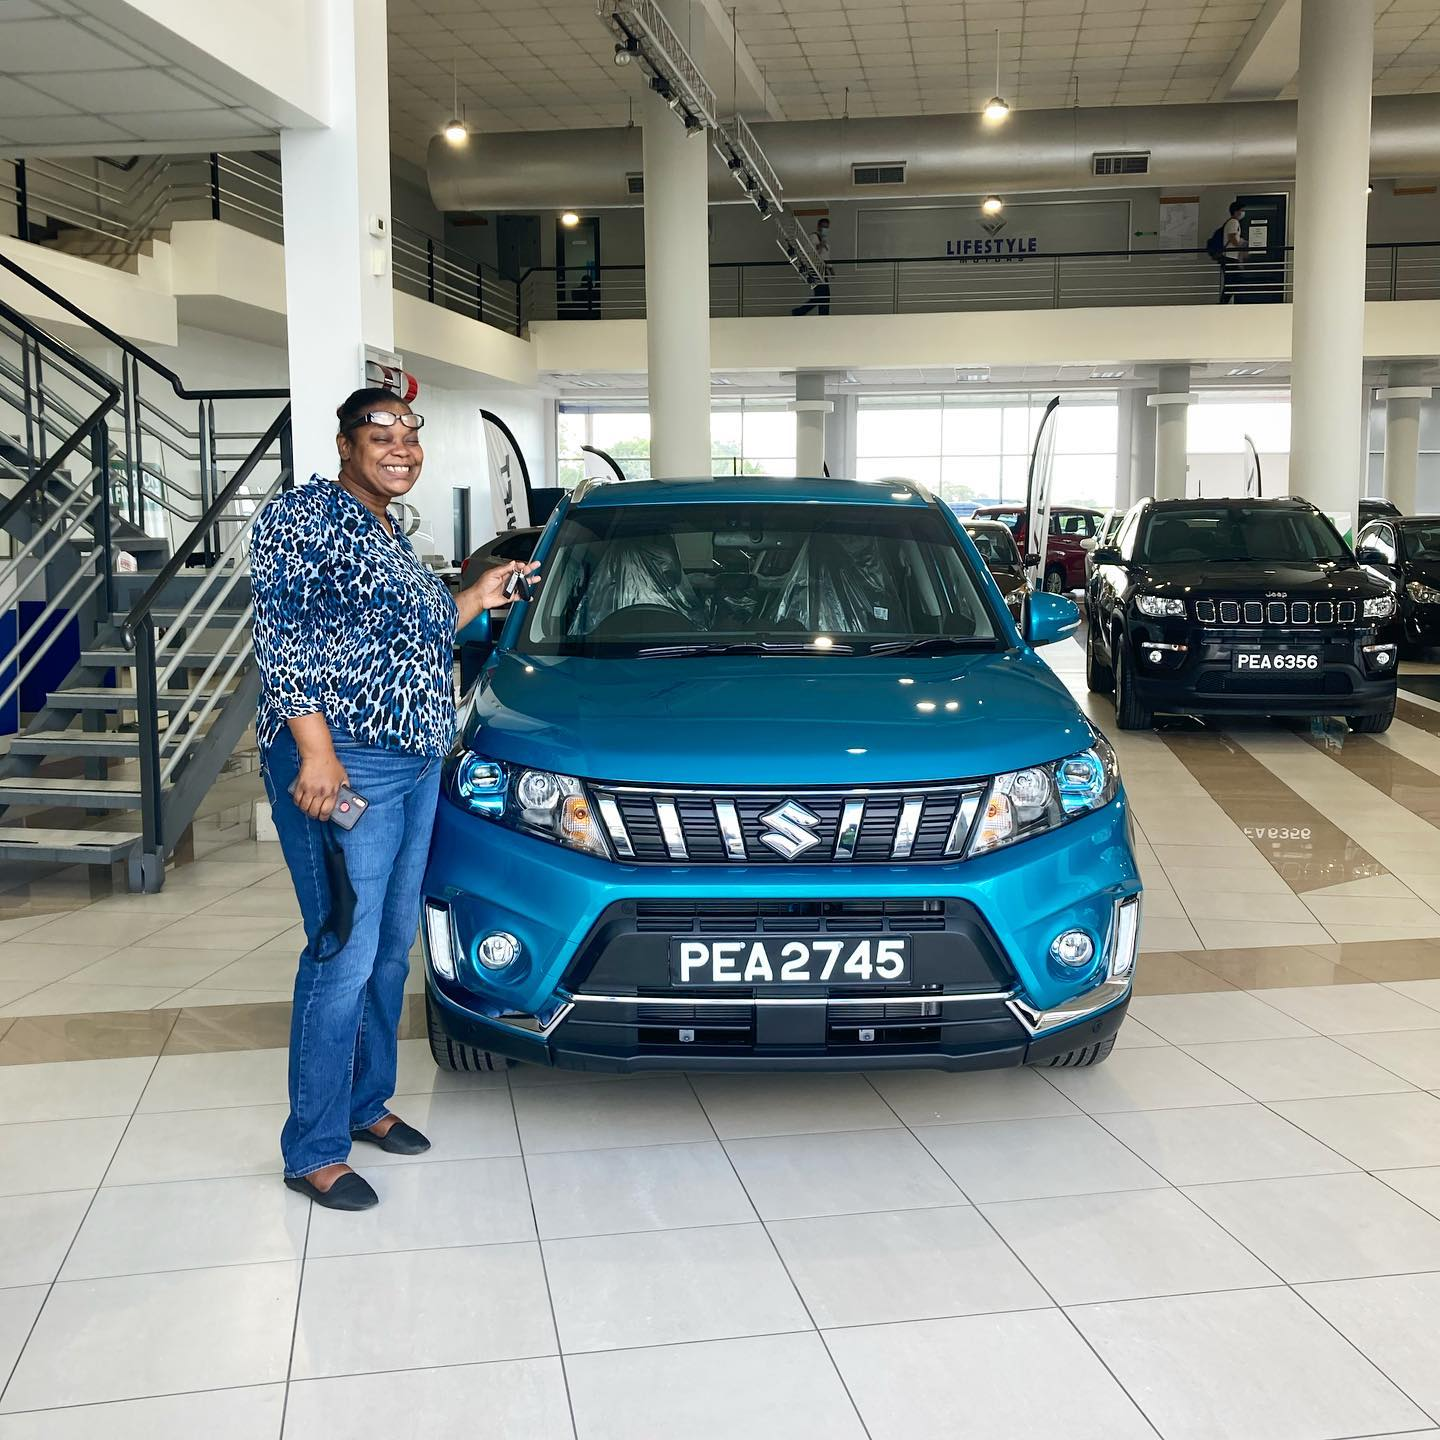License-Plate: (671, 938, 910, 984), (1235, 652, 1320, 669)
